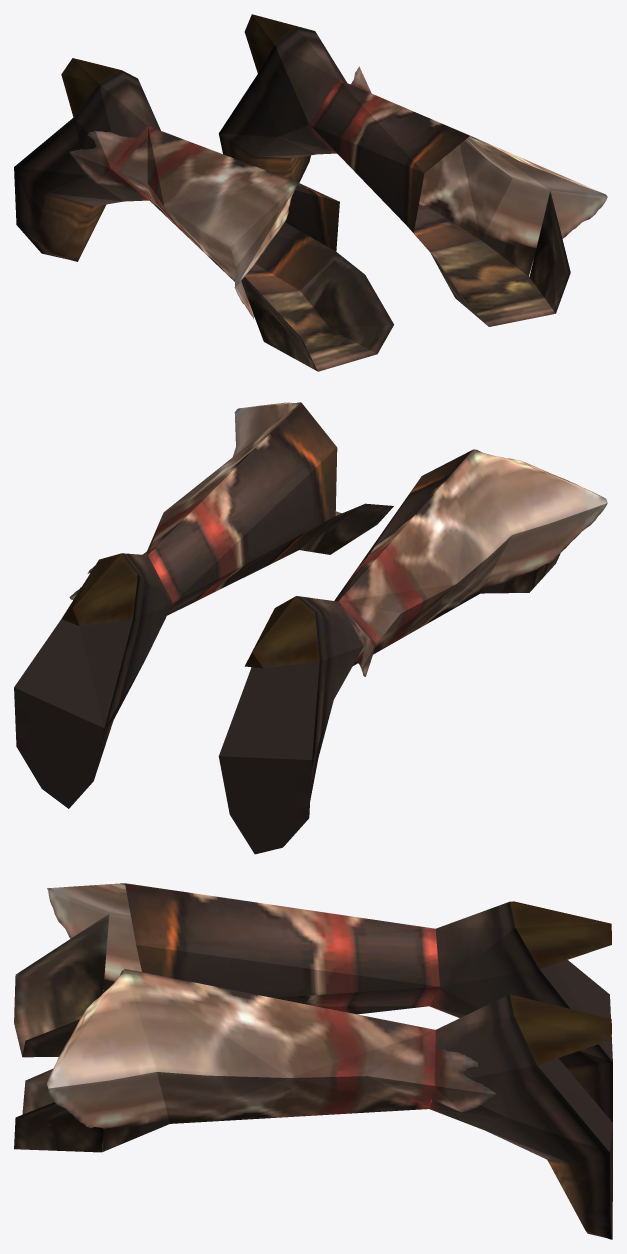
Rendered from warrior_shoe_female_45020.obj.
3 views of the same model, one above another, from view 1: azimuth 30°, elevation 25°; view 2: azimuth 150°, elevation 25°; view 3: azimuth 270°, elevation 25° (orthographic). The views are drawn at different scales.
Parts seen in each view (by area): view 1: warrior_shoe_female_45020; view 2: warrior_shoe_female_45020; view 3: warrior_shoe_female_45020.
Boxes of the visible parts, x1=… form: warrior_shoe_female_45020: x1=14, y1=14, x2=607, y2=371; warrior_shoe_female_45020: x1=14, y1=402, x2=607, y2=854; warrior_shoe_female_45020: x1=14, y1=883, x2=612, y2=1239.
Size of the model in its own units: 22.71 by 14.04 by 28.63.
Materials: 1 (1 with a texture image).
